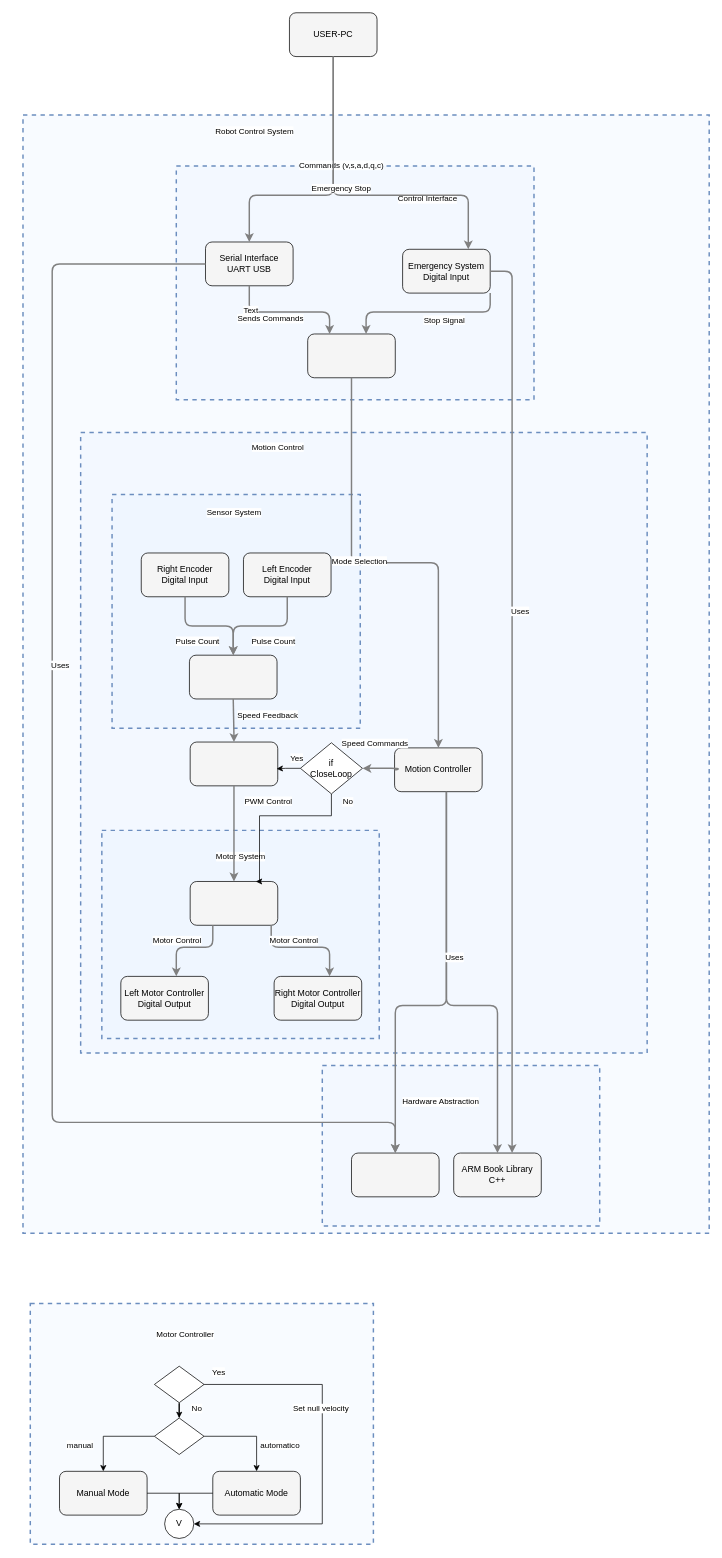
The diagram is 722 pixels wide and 1558 high, and some of its shapes have lost their labels. Here are the shapes that lost their labels. From the top down, the box of each, then its label:
(307, 333, 395, 378): Mode Controller C++
(189, 654, 277, 699): Speed Calculator
(189, 741, 278, 786): PID Controller C++ Class
(189, 881, 278, 925): PWM Controller Software PWM
(351, 1152, 439, 1197): Mbed OS ARM mbed
(154, 1365, 204, 1403): STOP
(154, 1417, 204, 1455): mode
